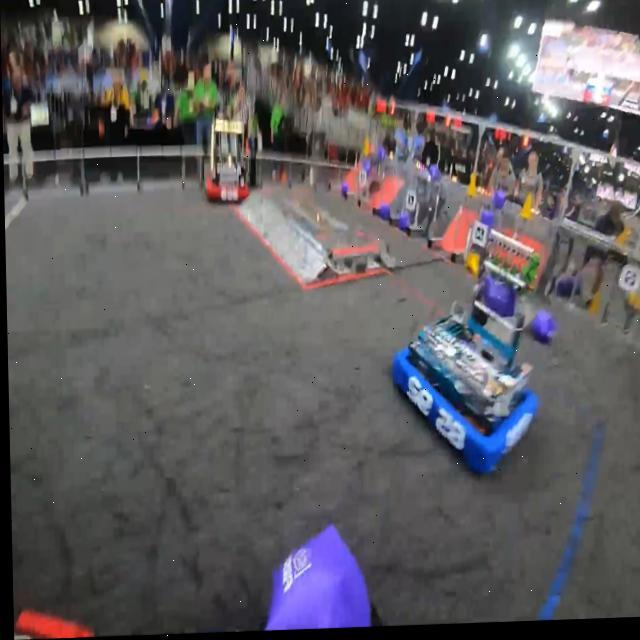robot: (388, 261, 540, 484), (200, 112, 252, 208)
